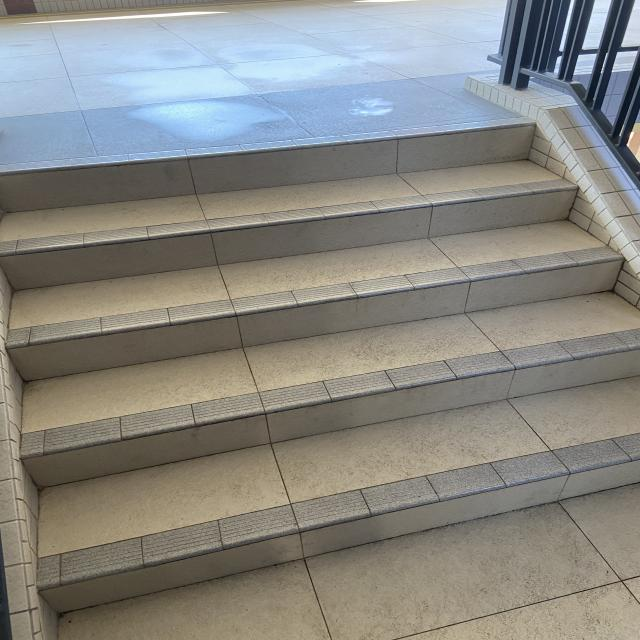Stairs: (0, 107, 640, 606)
